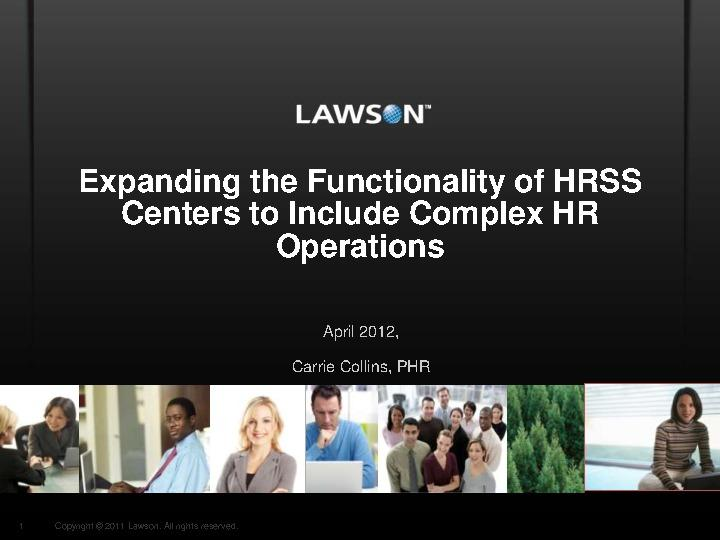subtitle: (253, 307, 481, 382)
title: (64, 81, 660, 267)
